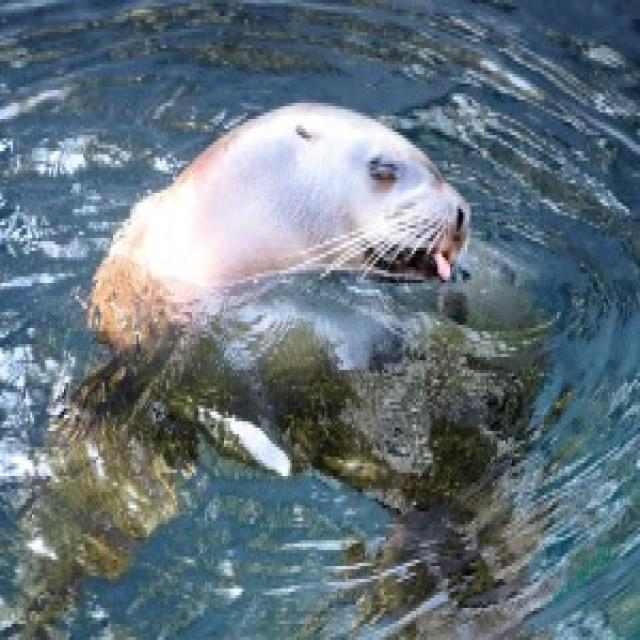Seal: (32, 84, 477, 352)
